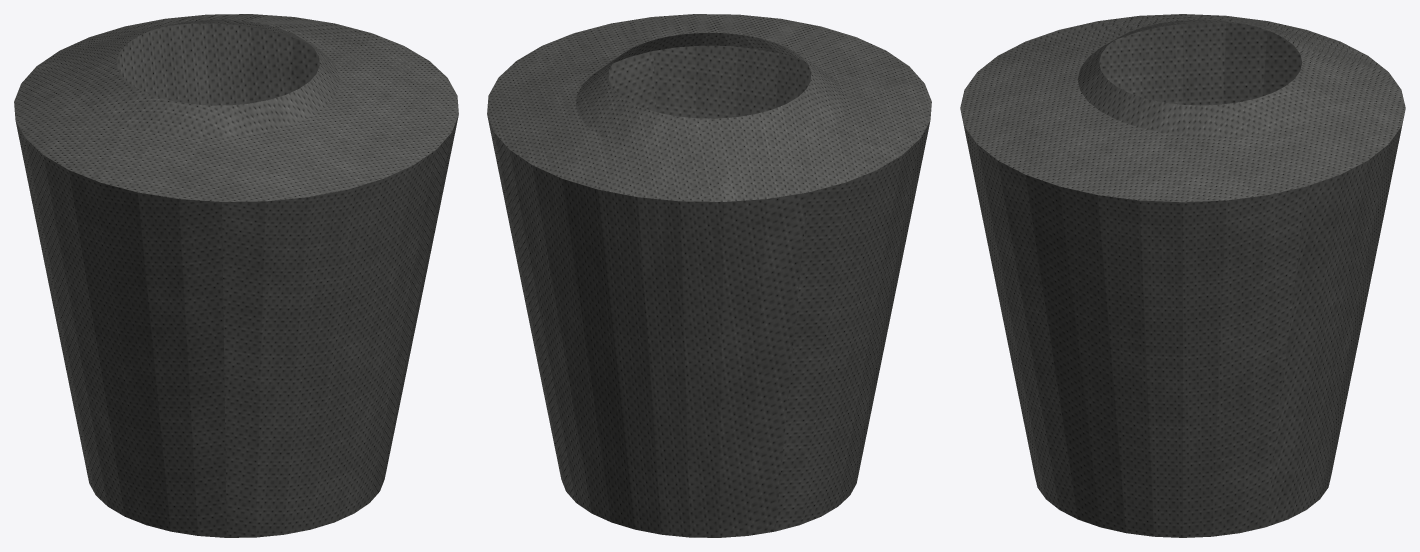
File: TrashCan.obj
3 views of the same model, side by side, from view 1: azimuth 30°, elevation 25°; view 2: azimuth 150°, elevation 25°; view 3: azimuth 270°, elevation 25° (orthographic).
Parts seen in each view (by area): view 1: Cylinder; view 2: Cylinder; view 3: Cylinder.
Part boxes in pixels (box(x1,y1,x2,y2)): Cylinder: box(14, 14, 458, 537); Cylinder: box(487, 14, 931, 537); Cylinder: box(960, 14, 1405, 537).
Size of the model in its own units: 1.03 by 1.04 by 1.03.
Materials: 1 (1 with a texture image).
